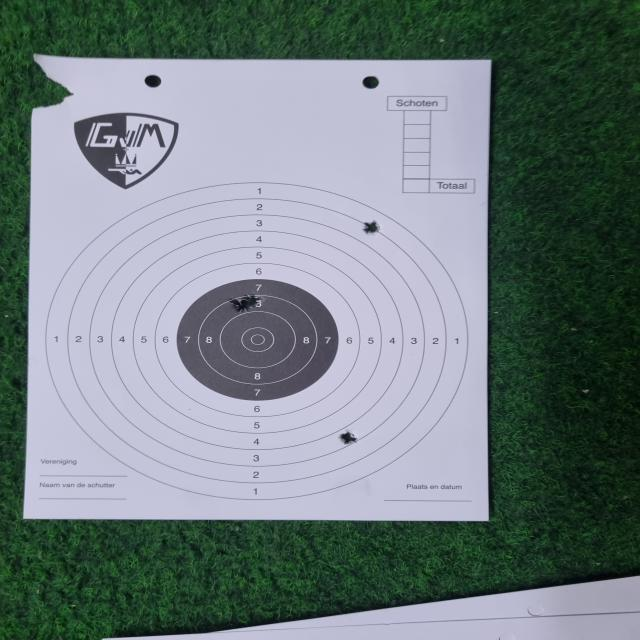2: (361, 221, 380, 234)
3: (338, 430, 359, 445)
8: (228, 298, 248, 312), (245, 294, 262, 307)
Target: (46, 183, 470, 499)
black_contour: (175, 278, 341, 401)
